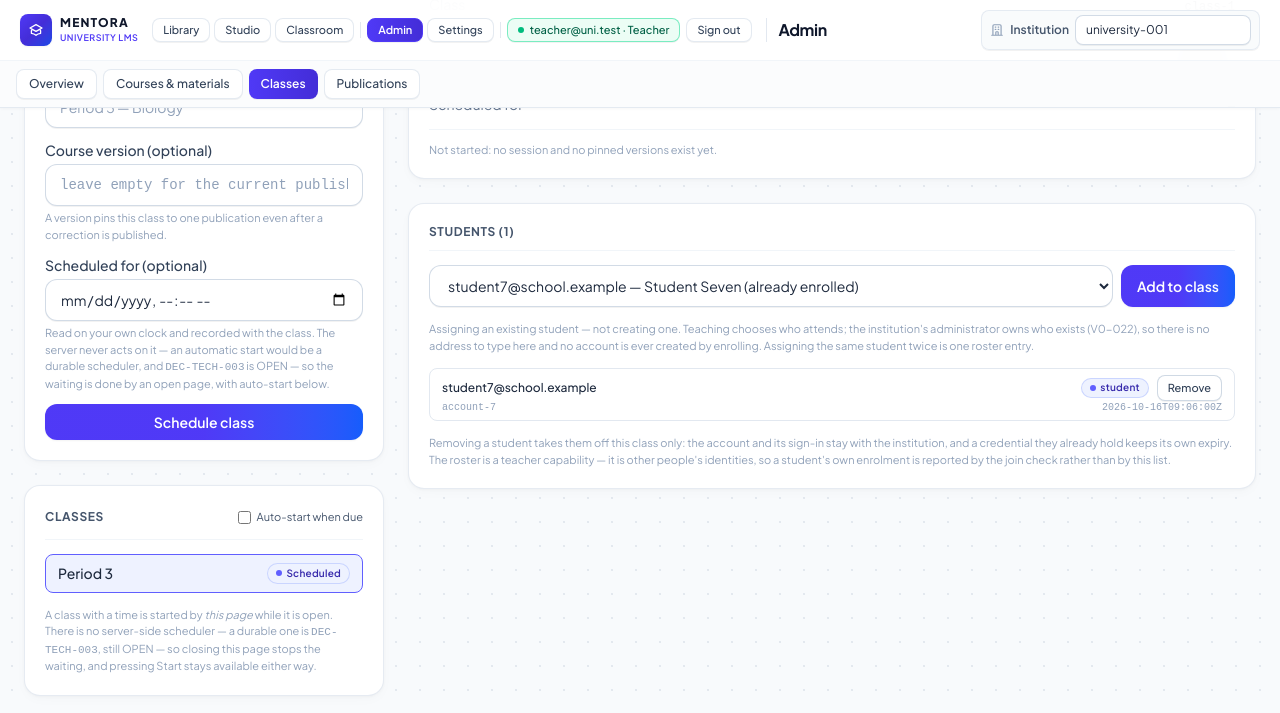
Scenario: AdminPage — classes › removes a student from the roster without touching the account
(page scrolled)
Click the button "Period 3 Scheduled" at (86,573), box [45,554,363,593]
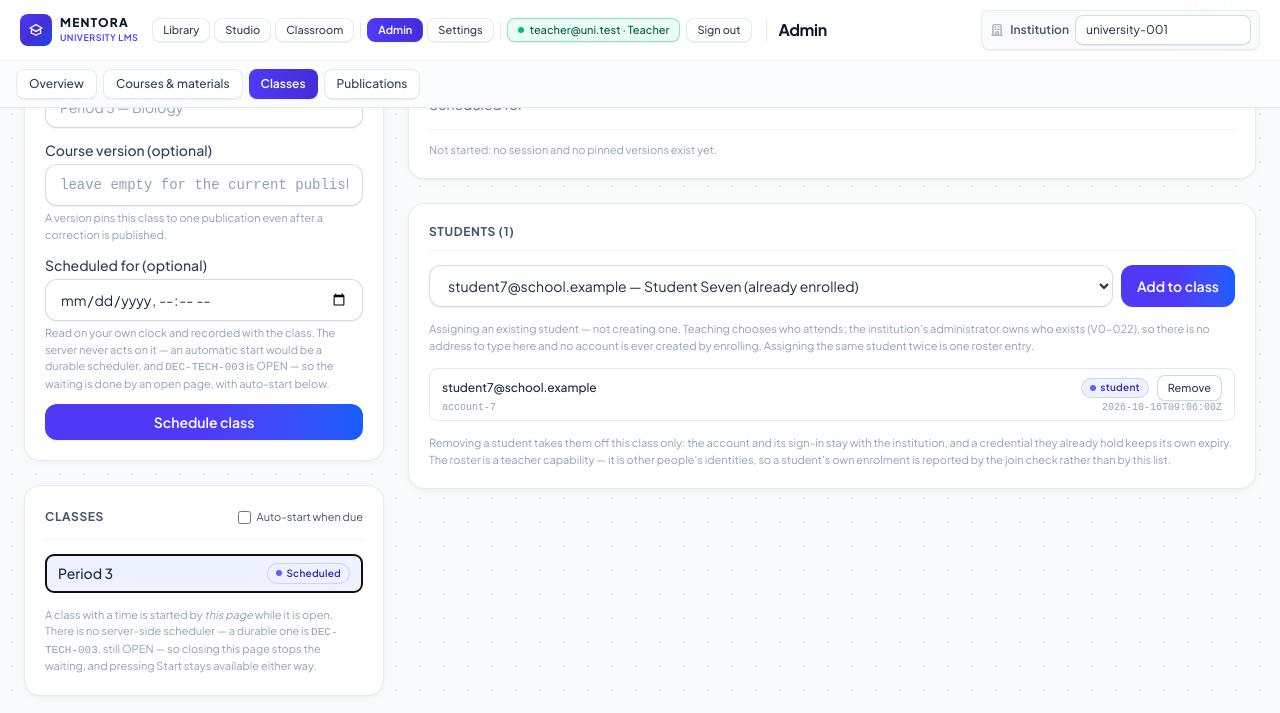
Click the button "Remove" at (1189,388), box [1157,375,1222,401]
(page scrolled)
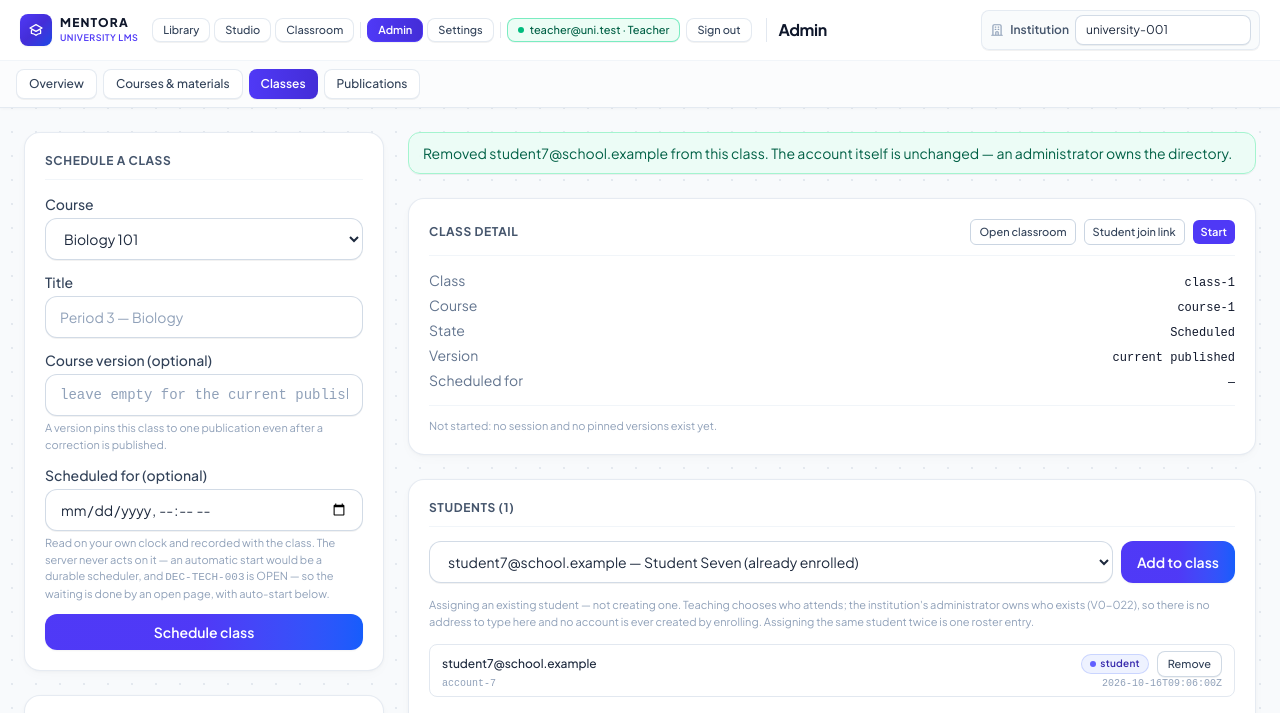
expect the text "The account itself is unchanged" is shown: met, box [423,144,1232,162]
